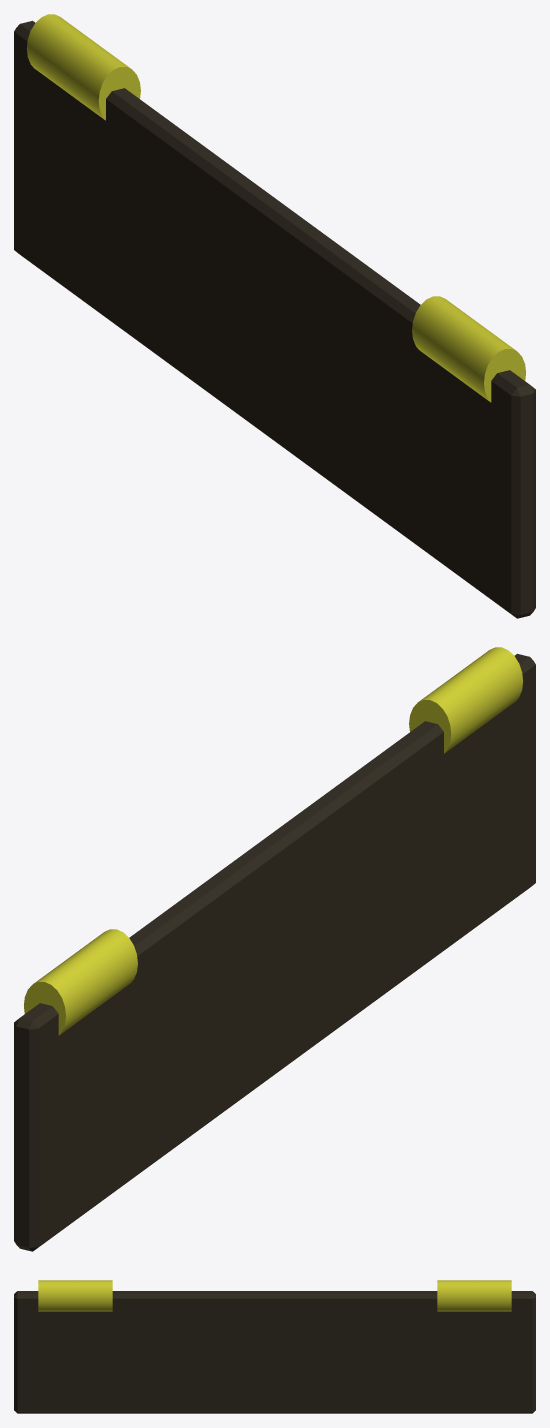
File: Flap 1.fbx
The picture shows the model from 3 angles, top to bottom: view 1: azimuth 30°, elevation 25°; view 2: azimuth 150°, elevation 25°; view 3: azimuth 270°, elevation 25°; orthographic projection. The views are drawn at different scales.
Parts seen in each view (by area): view 1: pCube7; view 2: pCube7; view 3: pCube7.
Boxes of the visible parts, x1,y1,x2,y2 form: pCube7: (14, 14, 535, 618); pCube7: (14, 647, 535, 1251); pCube7: (14, 1280, 535, 1413).
Bounding box in the file's own units: 0.3268 × 1.87 × 6.75.
